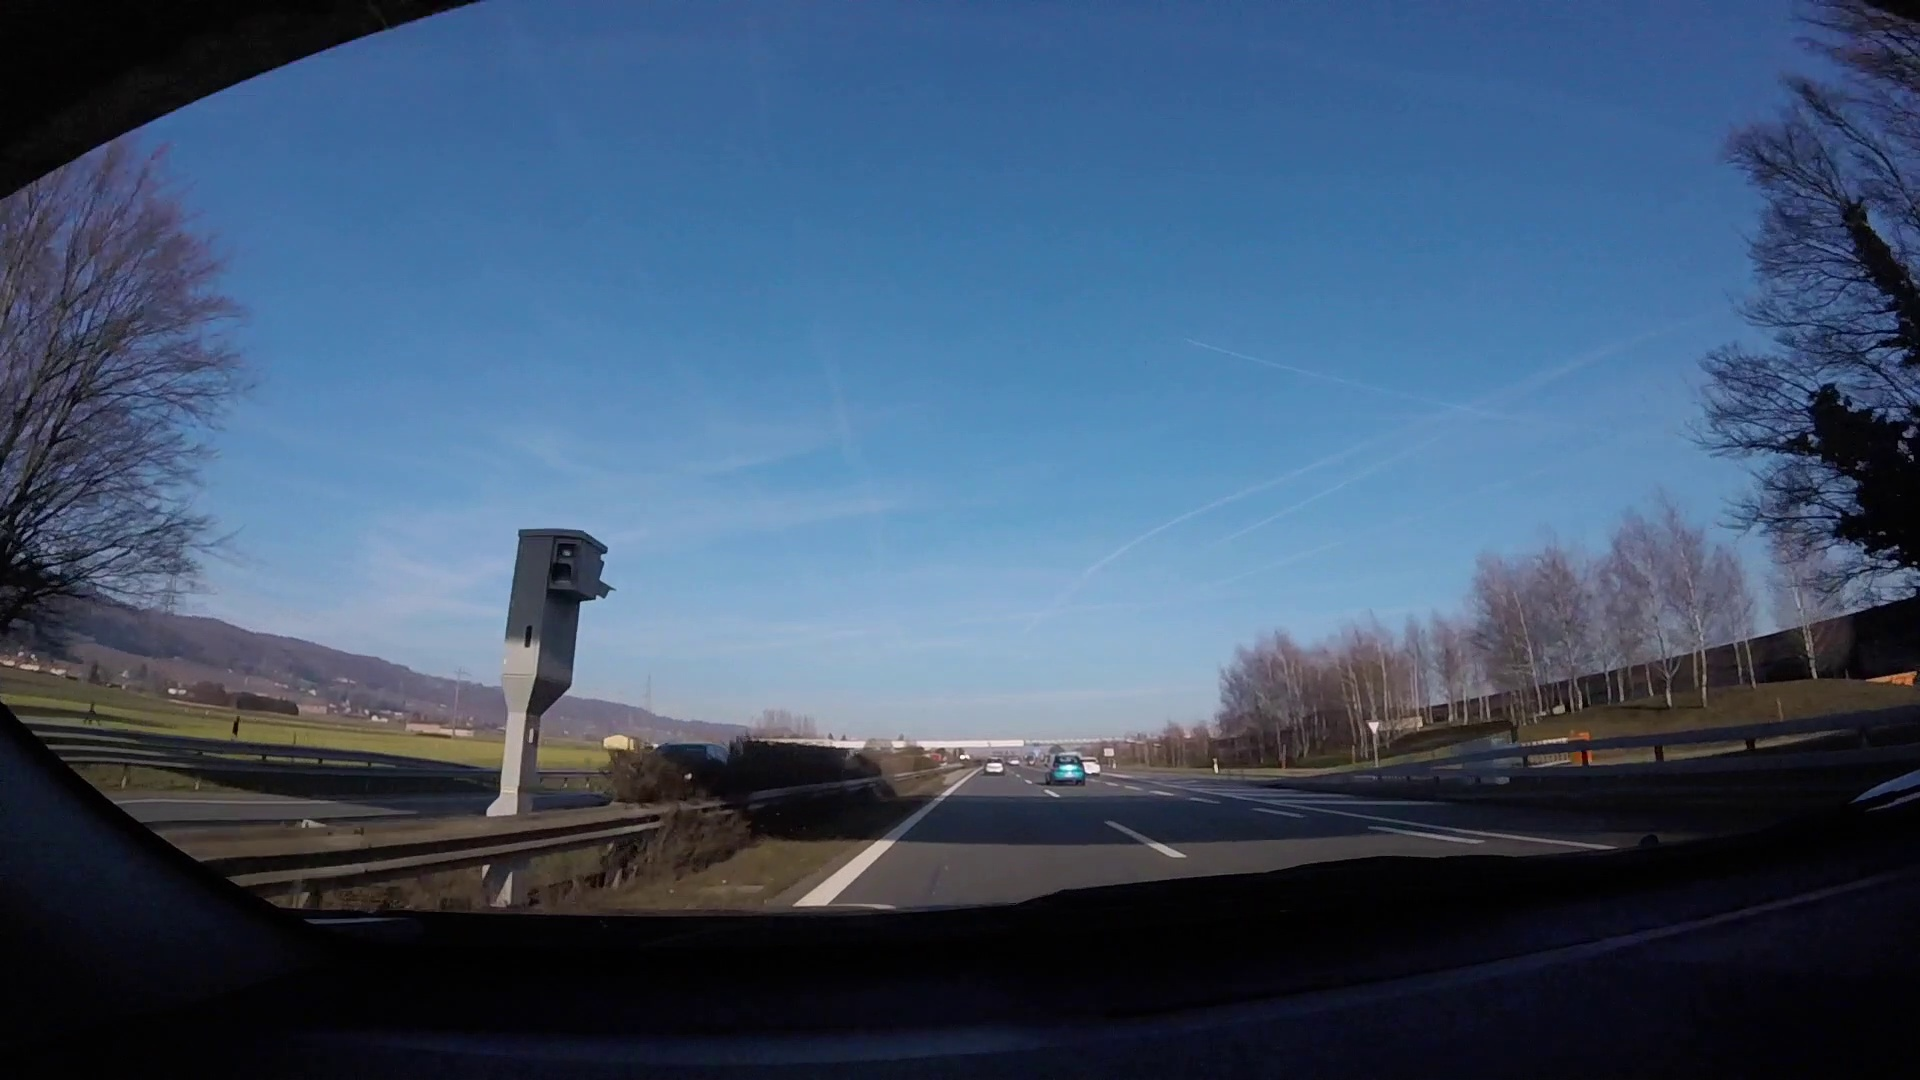radar: (500, 527, 621, 794)
